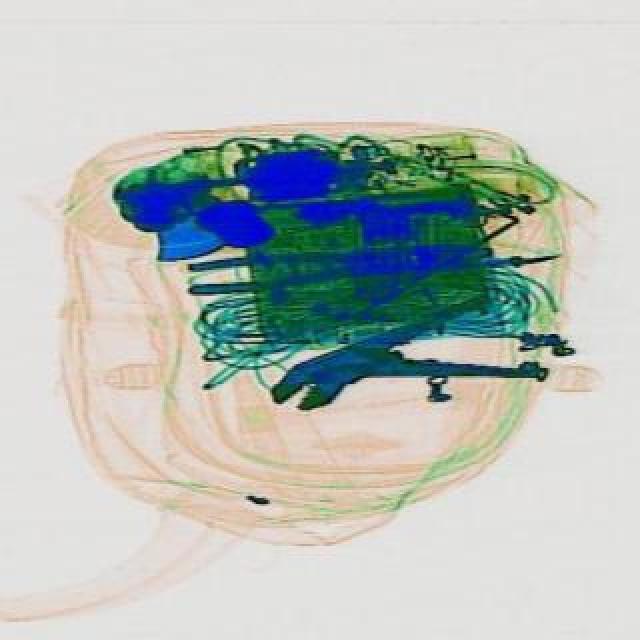wrench: (254, 282, 542, 446), (182, 230, 492, 298)
